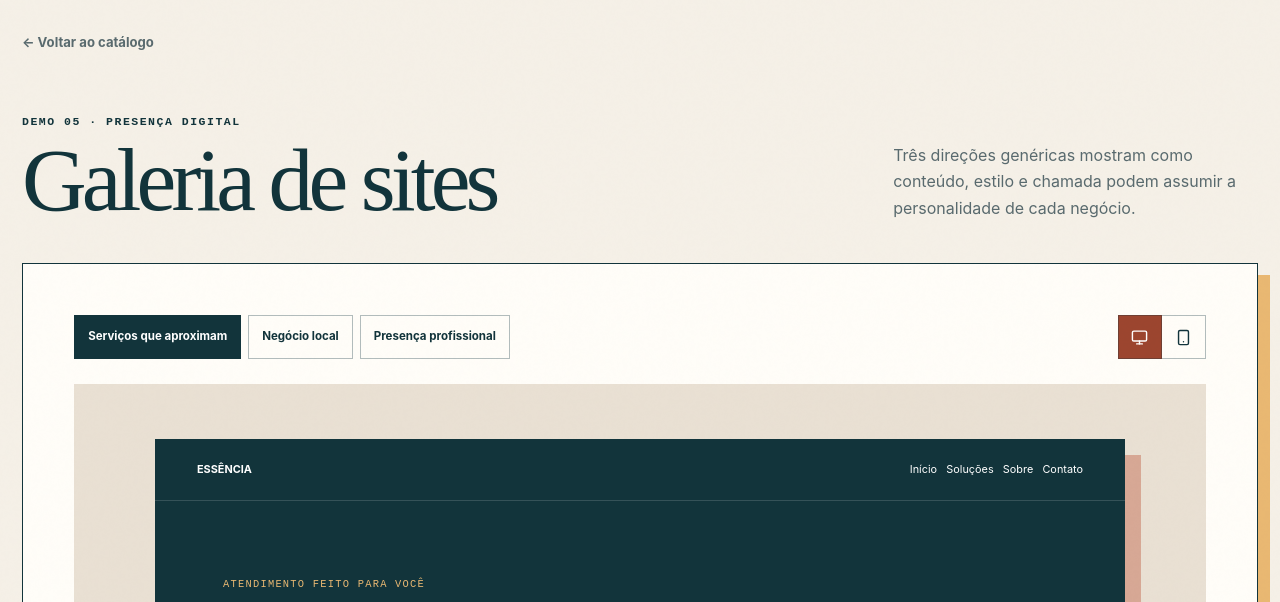
Test: SitesDemoPage › permite trocar o conceito apresentado
The width and height of the screenshot is (1280, 602).
Click the tab "Presença profissional" at (435, 337), box [360,315,510,359]
(page scrolled)
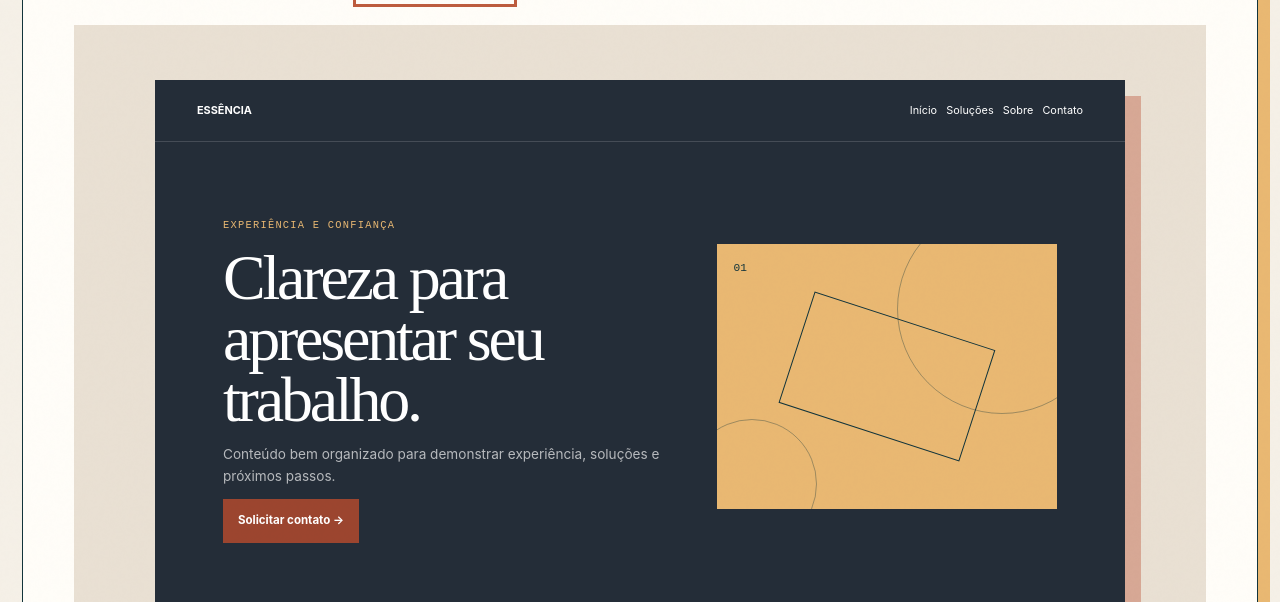
Now the heading "Clareza para apresentar seu trabalho." is shown, box [223,242,542,435]
